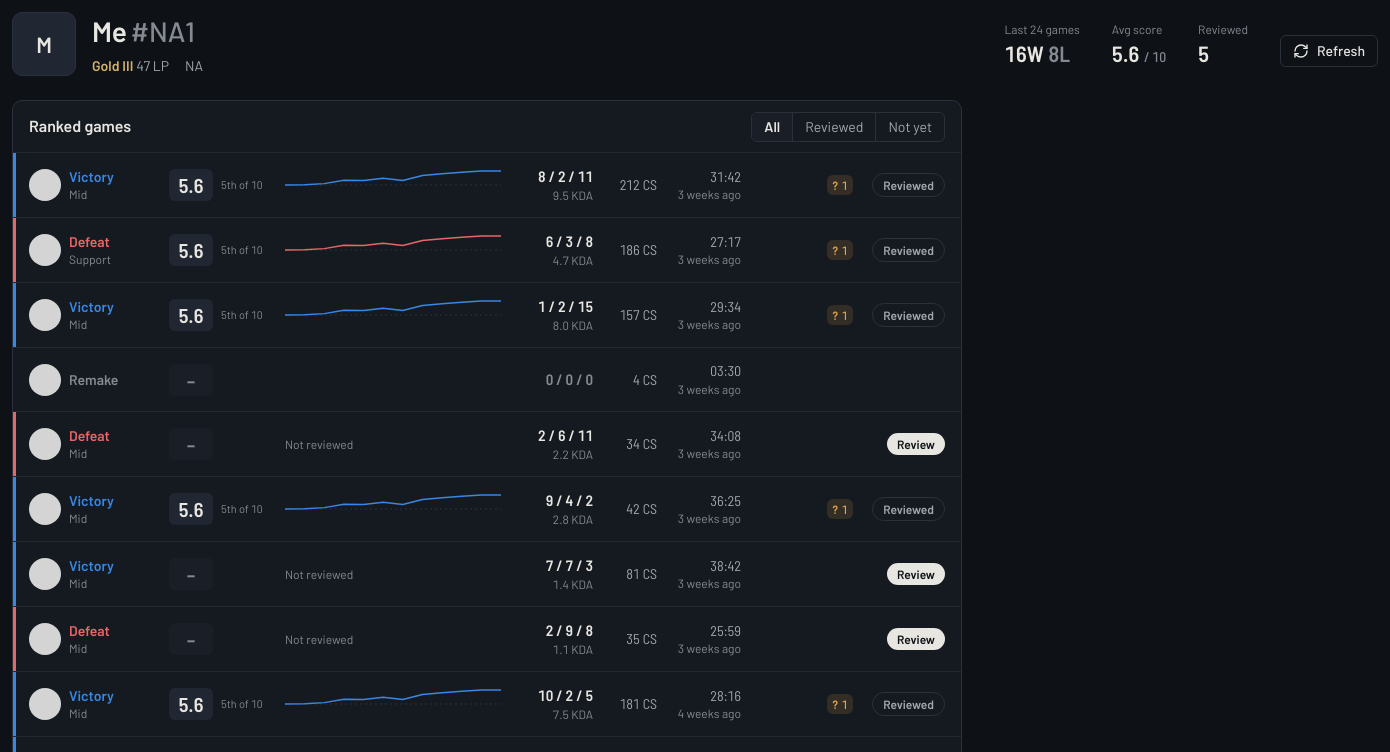
Test case: GamesPage › filters the games to reviewed or not yet
This screenshot has width=1390, height=752.
Click the button "Reviewed": [834, 126] box [792,112,875,140]
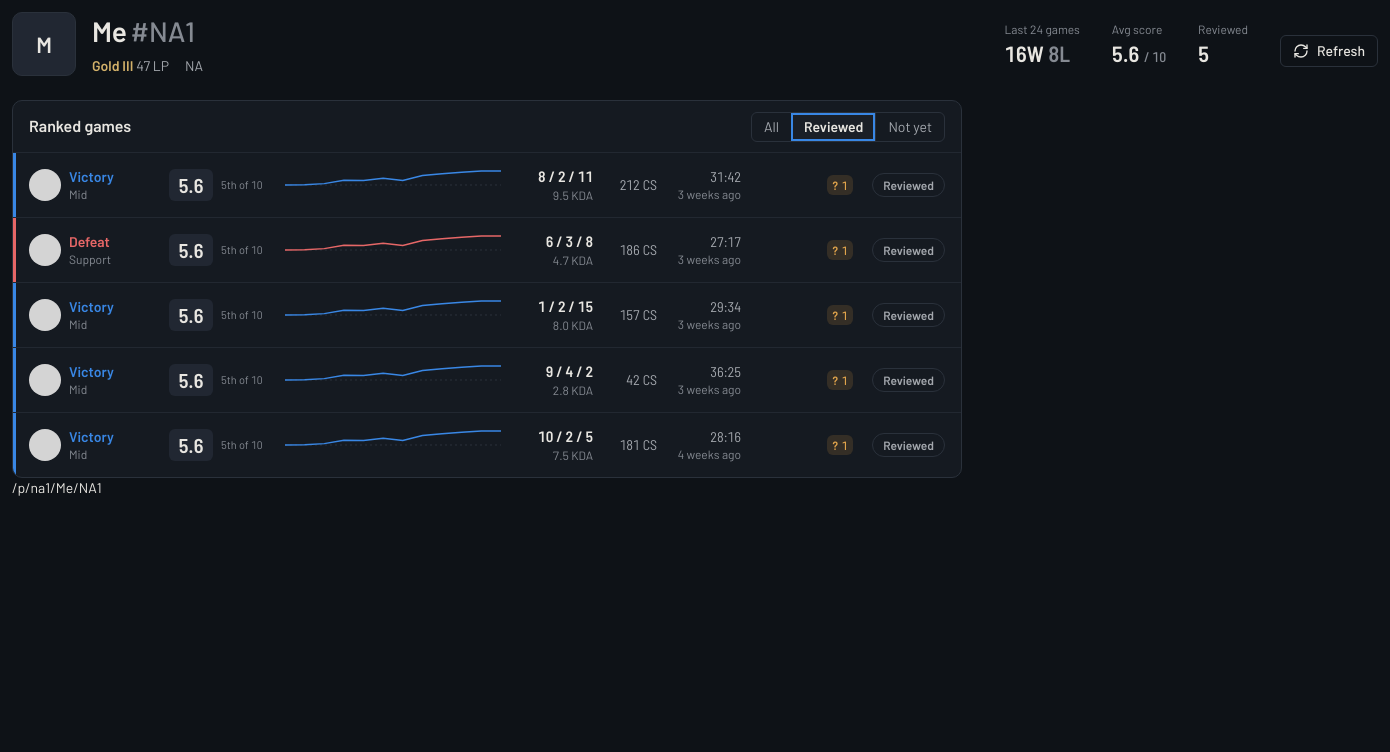
Expected: the number of links is 5, [29,167,945,202]; [29,232,945,267]; [29,297,945,332]; [29,362,945,397]; [29,427,945,462]
// a remake can't be reviewed, so it isn't "Not yet"
Click the button "Not yet": [910, 126] box [875,112,944,140]
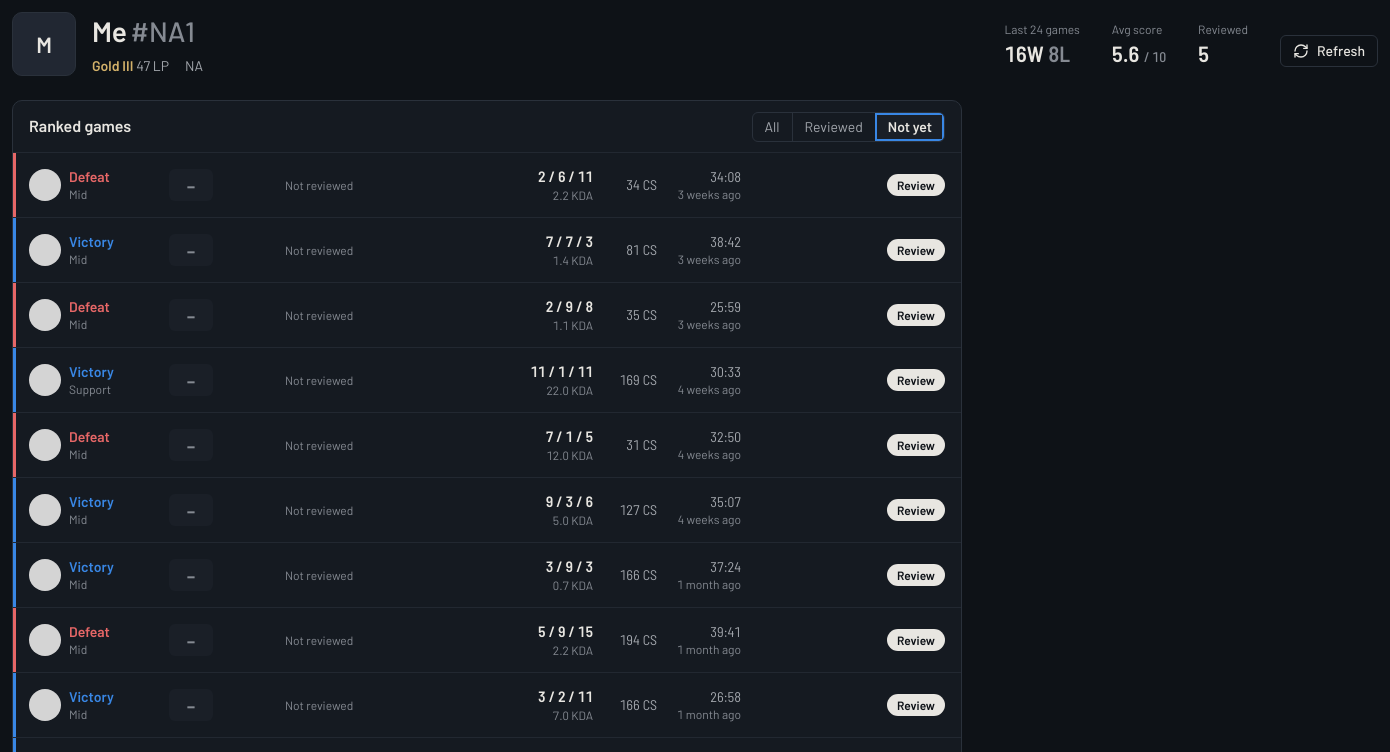
Expected: the number of links is 19
